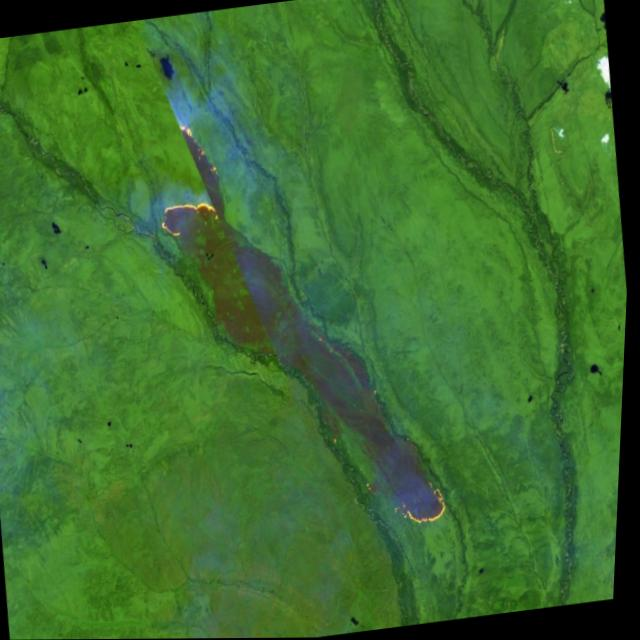fire: (146, 115, 229, 239), (394, 482, 455, 529)
